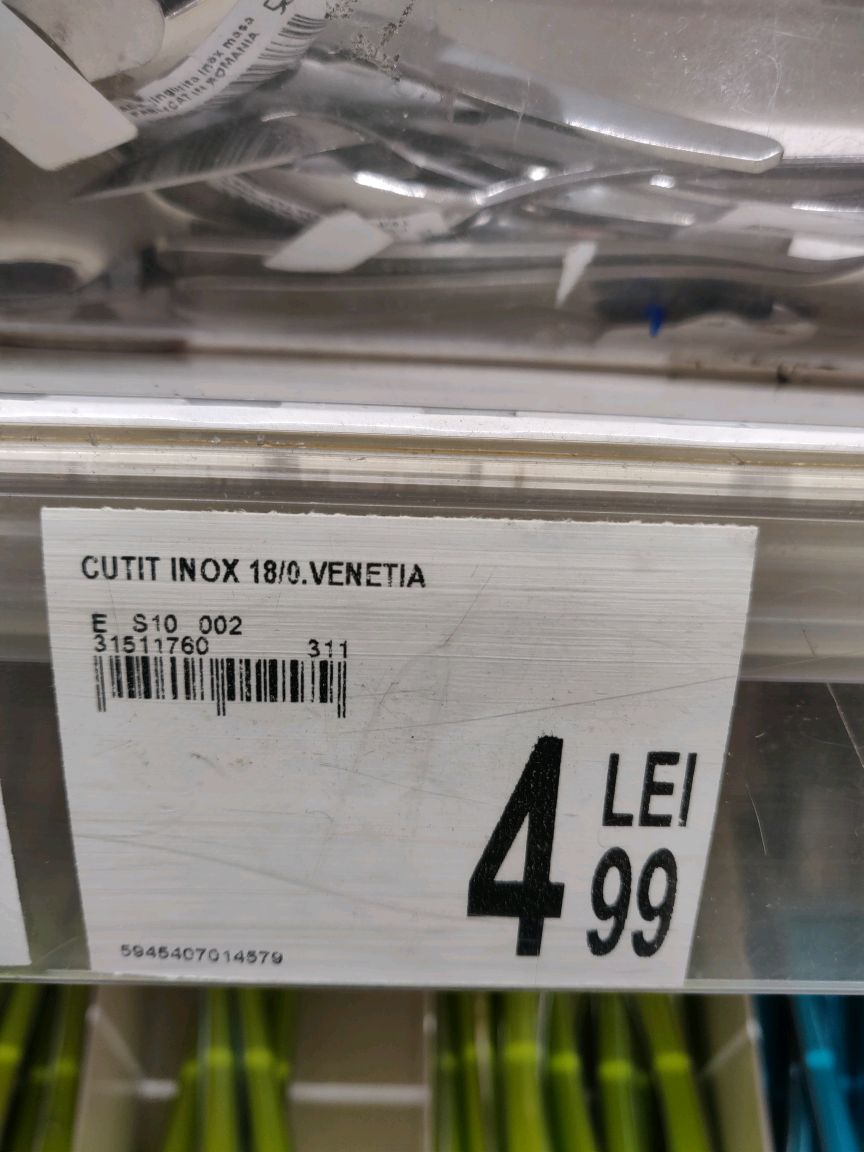price_bani: (573, 842, 692, 976)
price_lei: (445, 727, 584, 971)
price_tag: (32, 490, 762, 987)
product_id: (109, 935, 292, 981)
product_name: (68, 550, 440, 595)
